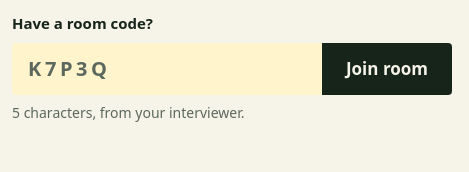
Join code form on the landing page › sends a valid code to the join page, upper-cased
The image size is (469, 172).
Type "k7p3q" into the field labelled "Have a room code?".
click(167, 68); type("k7p3q")  # box 12,42 -> 322,94
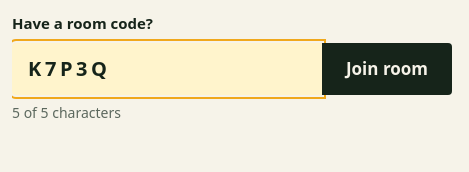
Click the button "Join room".
click(387, 68)  # box 322,42 -> 452,94
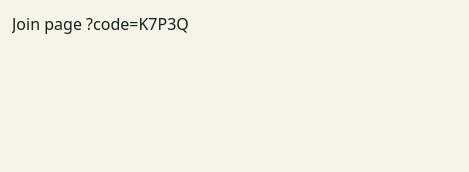
Now the text "Join page ?code=K7P3Q" is shown, box 12,13 -> 189,35
